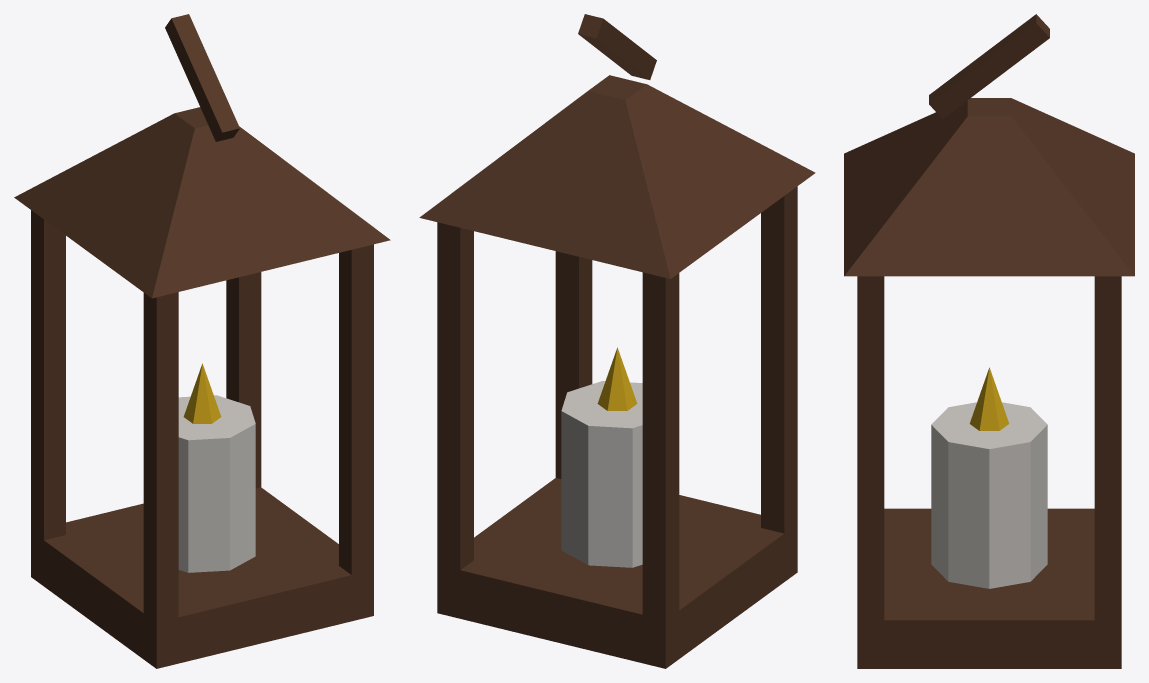
Rendered from candle-holder-17.glb.
3 renders of one model, left to right at view 1: azimuth 30°, elevation 25°; view 2: azimuth 150°, elevation 25°; view 3: azimuth 270°, elevation 25°, orthographic. The views are drawn at different scales.
Visible parts, largest first — view 1: candle_holder_17; view 2: candle_holder_17; view 3: candle_holder_17.
Part boxes in pixels (<box>): candle_holder_17: <box>14,14,390,668</box>; candle_holder_17: <box>419,14,815,668</box>; candle_holder_17: <box>844,14,1134,668</box>.
Bounding box in the file's own units: 0.1623 × 0.3661 × 0.1623.
